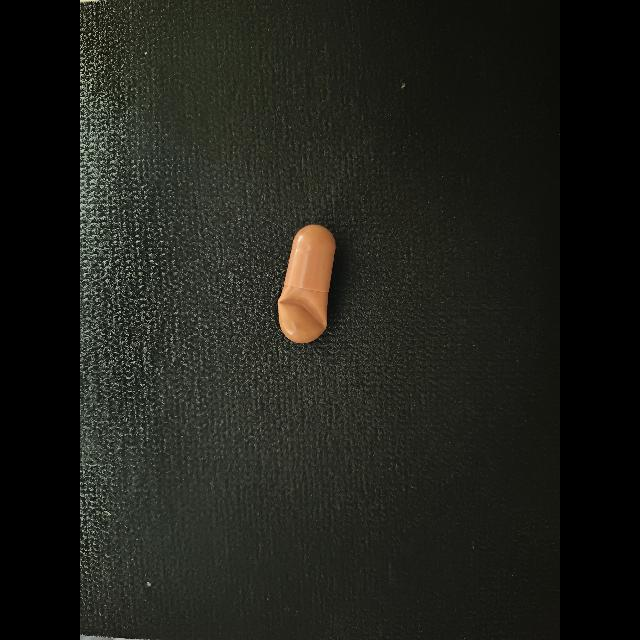Defective Capsule: (277, 295, 327, 330)
